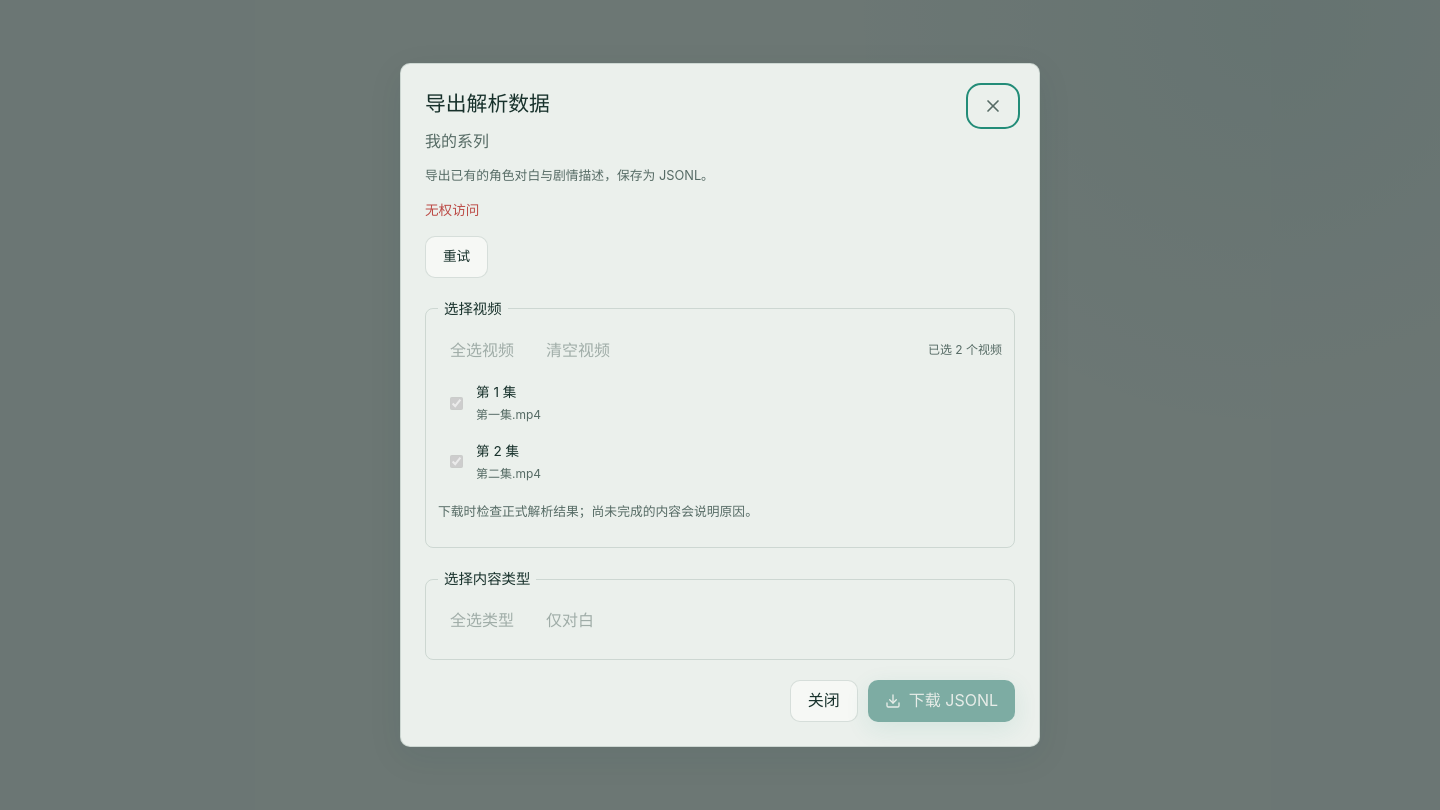
Test: ParseExportDialog › disables export when loading options fails and can reload them
Check: the message shows "无权访问", box [425,202,479,218]
Check: the button "下载 JSONL" is disabled, box [868,680,1015,722]
Click the button "重试". click: [457, 257]
box: [425,236,488,278]
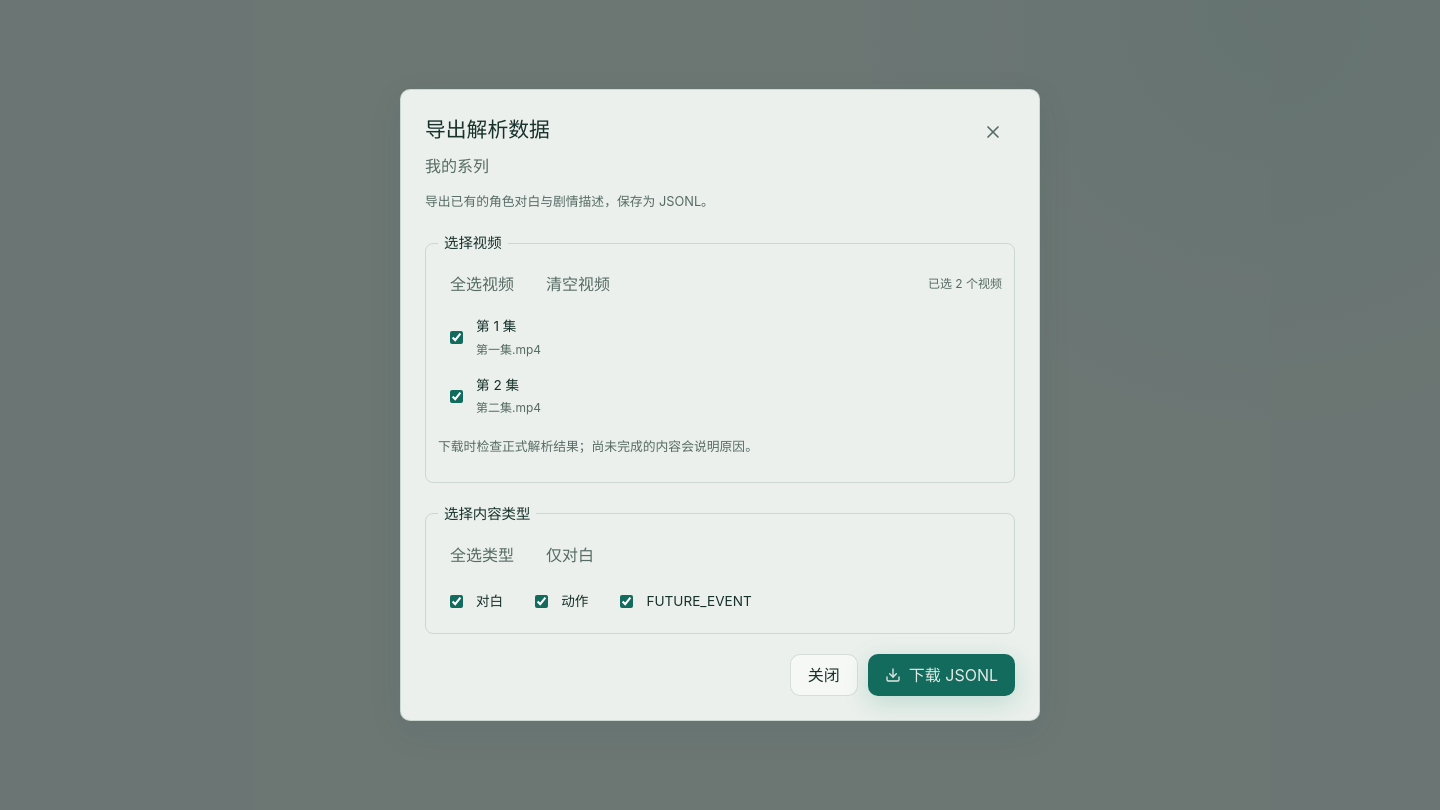
Check: the checkbox labelled "对白" is shown, box [450,595,463,608]
Check: the button "下载 JSONL" is enabled, box [868,654,1015,696]
